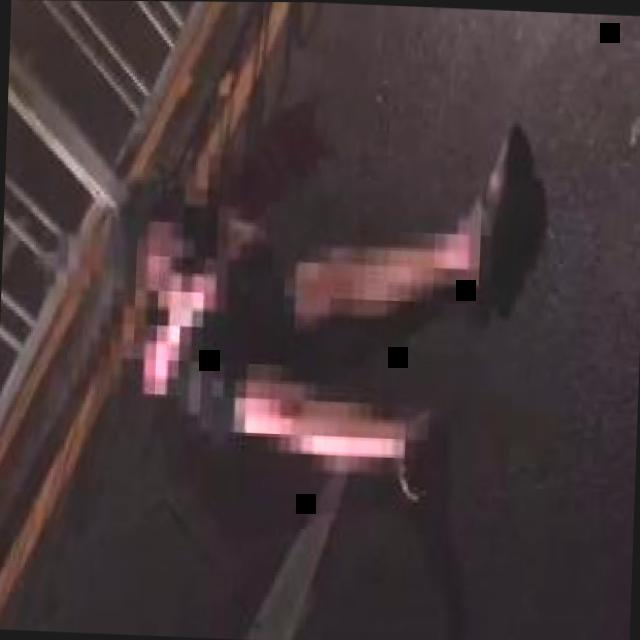Fall-Detected: (99, 78, 547, 522)
